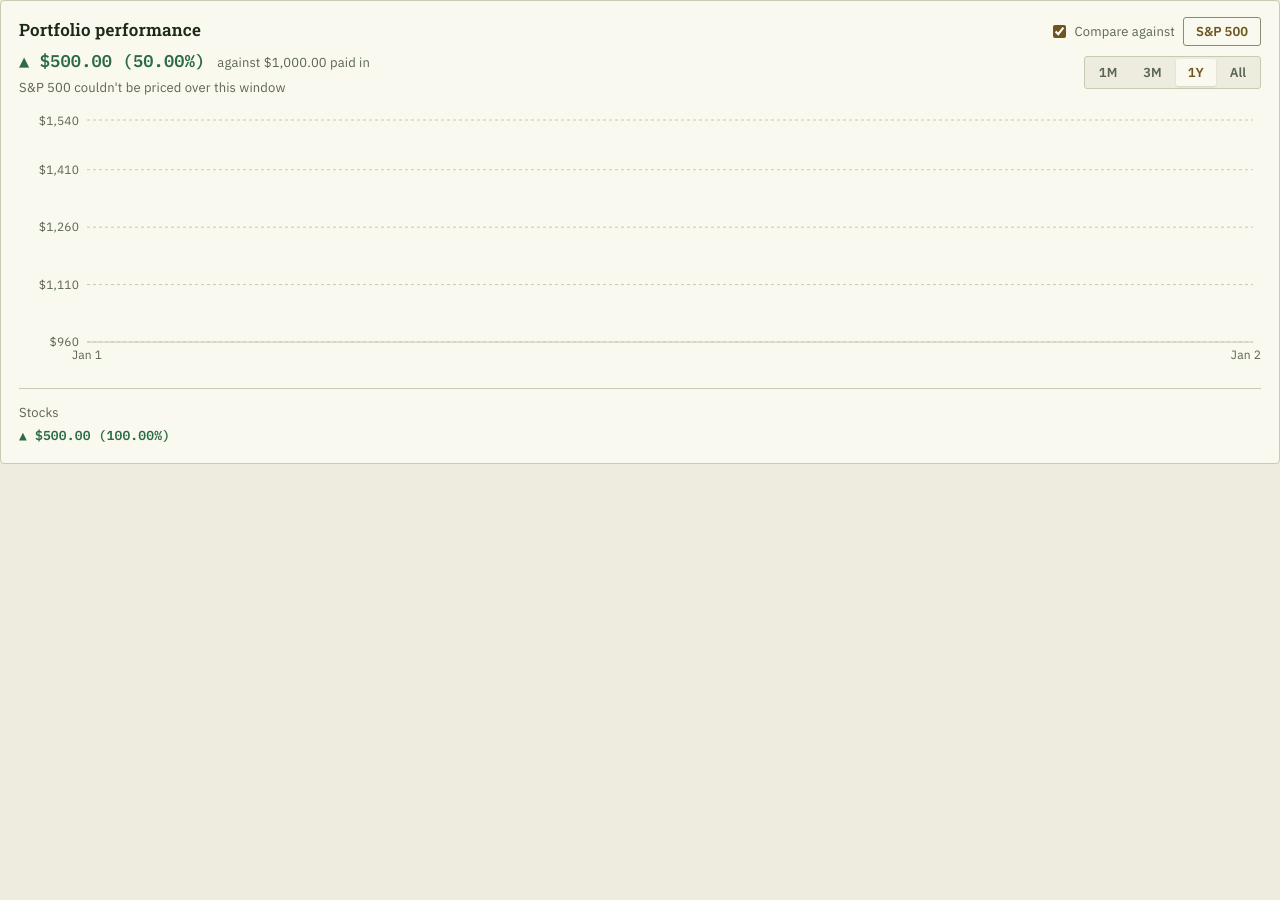
it: PortfolioPerformance › compares against any asset the user searches for
expect the text "against $1,000.00 paid in" is shown: met, box [217,52,370,72]
Click the button "S&P 500".
click(1222, 32)  # box [1183,17,1261,46]
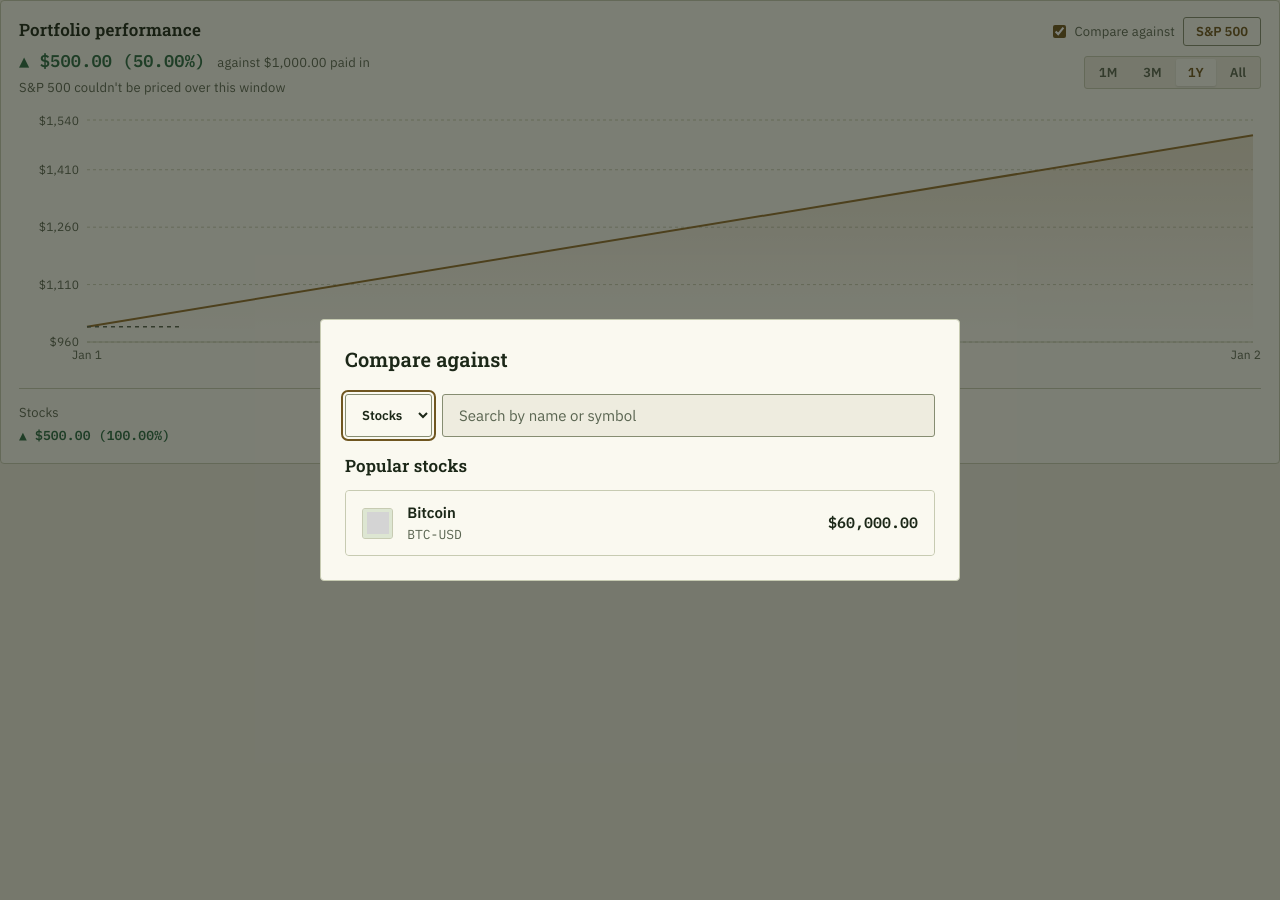
Select "Crypto" in the dropdown named "Asset type" at (388, 415), box [345,394,432,437]
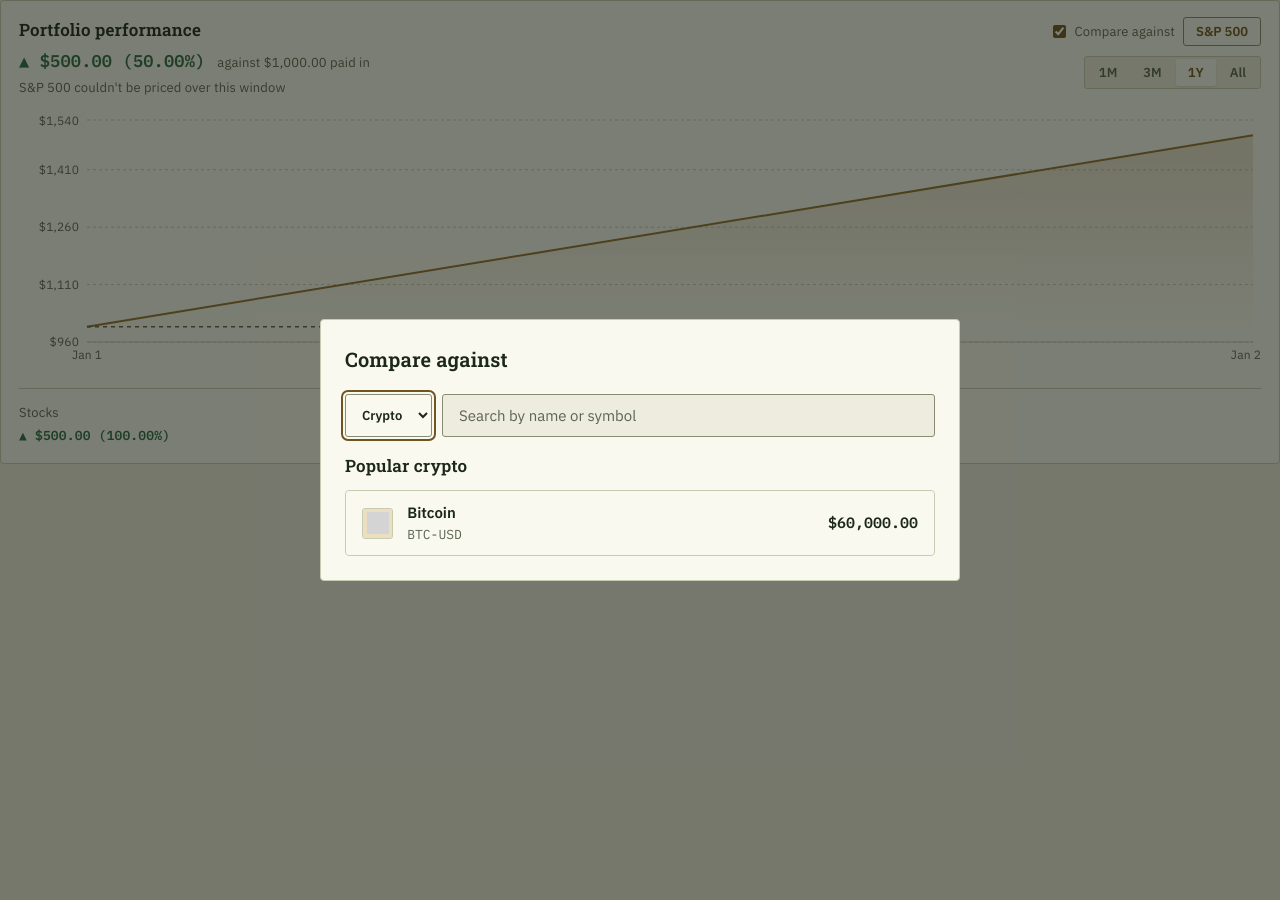
Click the button "BT Bitcoin BTC-USD $60,000.00".
click(378, 523)  # box [346,491,934,555]
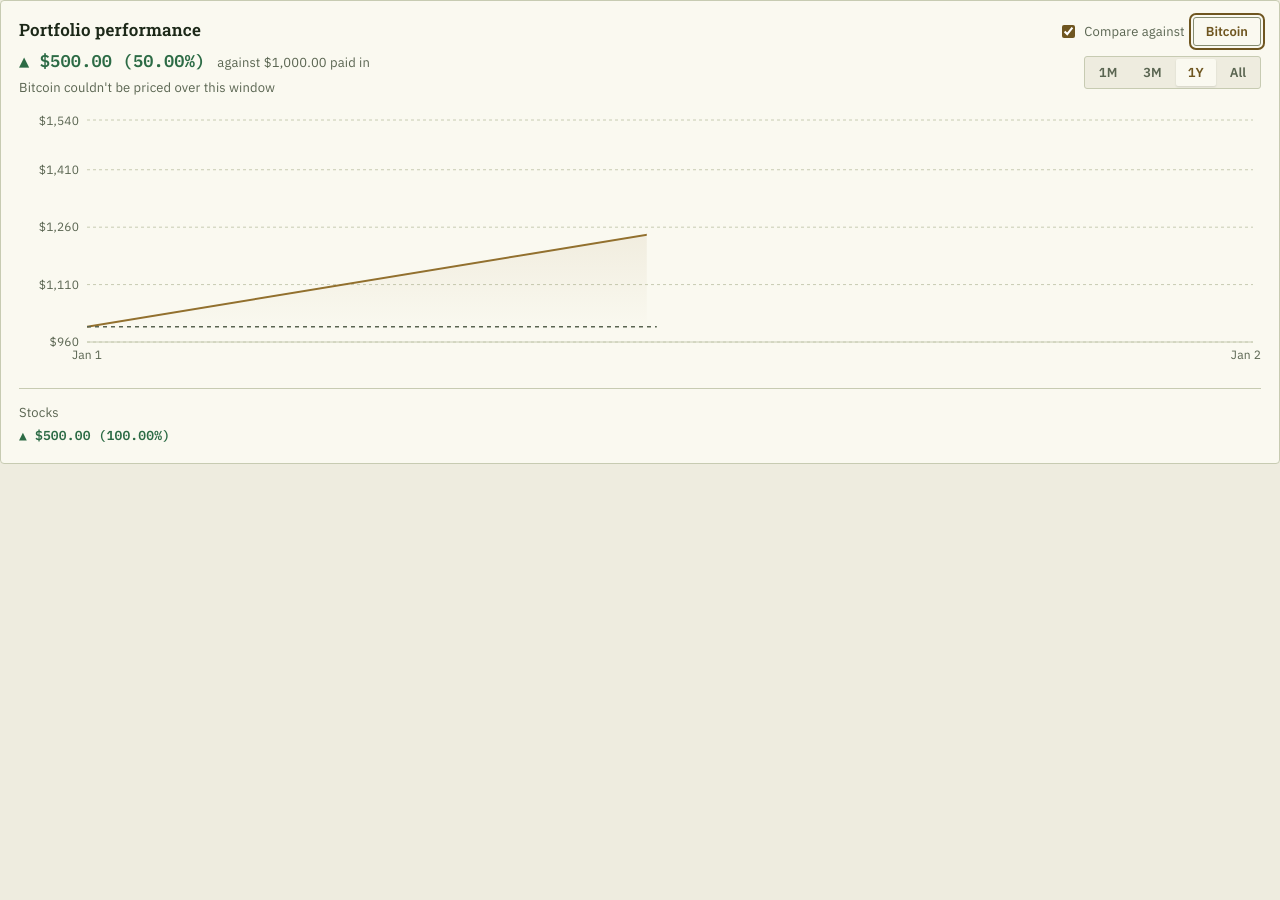
expect the button "Bitcoin" is shown: met, box [1193,17,1261,46]
